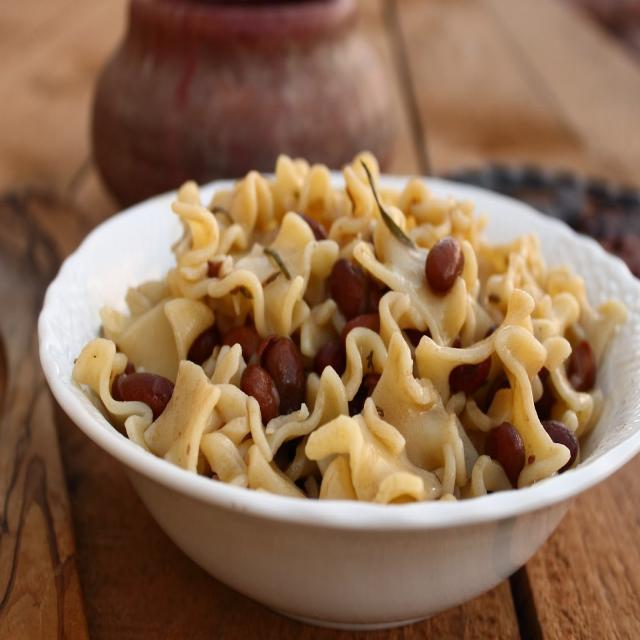Oil pasta: (57, 136, 639, 630)
